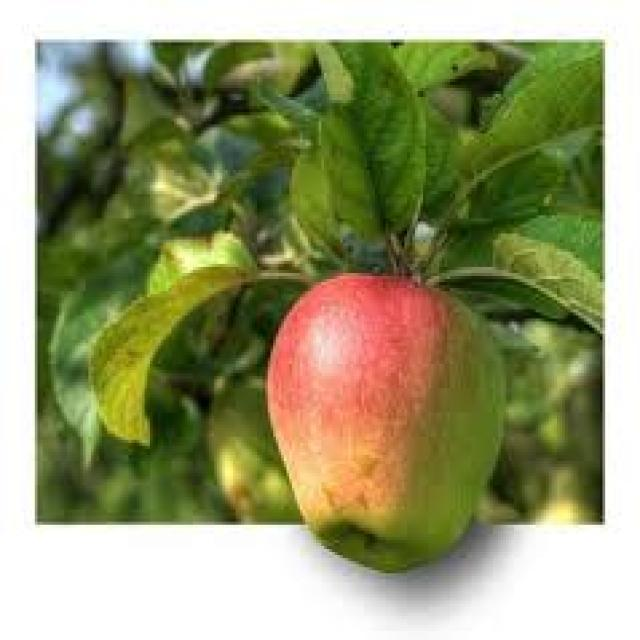apple: (272, 241, 530, 591)
